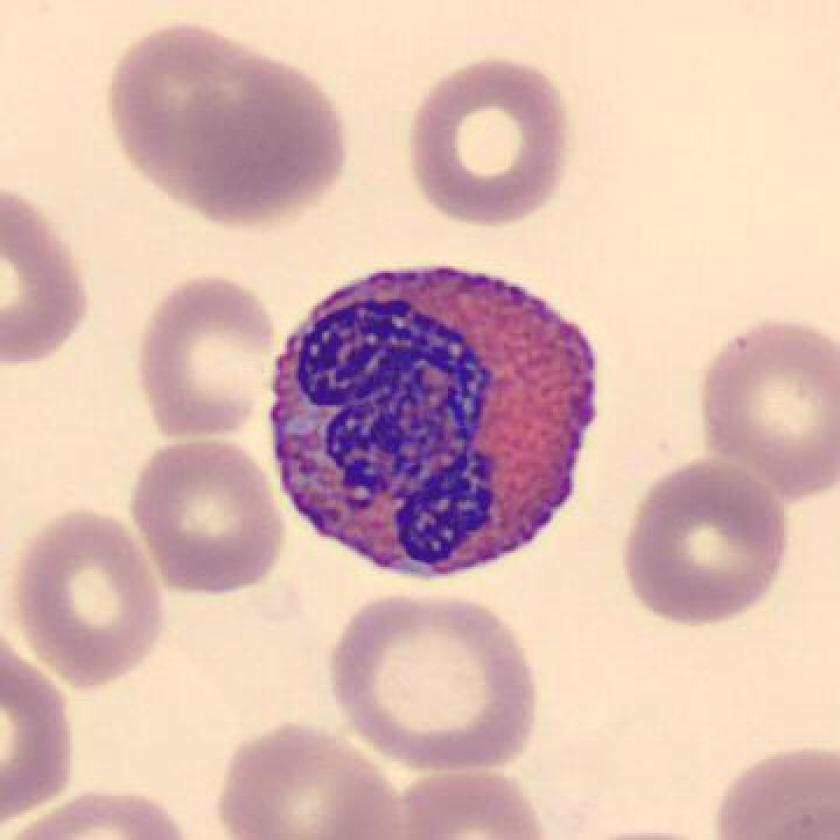eosinophil: (255, 253, 617, 582)
